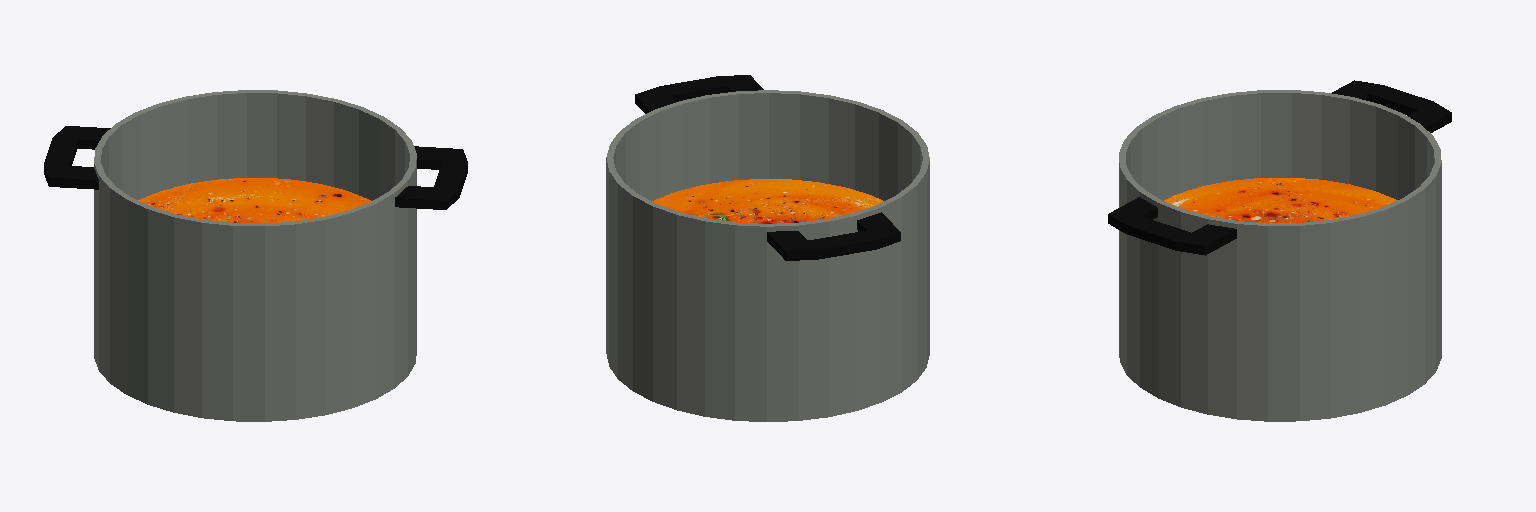
The picture shows the model from 3 angles: view 1: azimuth 30°, elevation 25°; view 2: azimuth 150°, elevation 25°; view 3: azimuth 270°, elevation 25°; orthographic projection.
Visible parts, largest first — view 1: Cilindro.017_Cilindro.019; view 2: Cilindro.017_Cilindro.019; view 3: Cilindro.017_Cilindro.019.
Boxes of the visible parts, box(x1,y1,x2,y2) form: Cilindro.017_Cilindro.019: box(44, 90, 467, 421); Cilindro.017_Cilindro.019: box(606, 75, 929, 421); Cilindro.017_Cilindro.019: box(1108, 80, 1451, 421).
Size of the model in its own units: 0.5458 by 0.3 by 0.4789.
Materials: 2 (2 with a texture image).